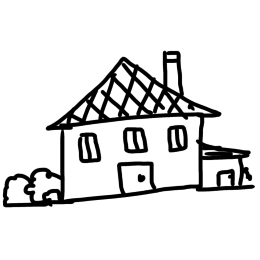chimney: (155, 34, 187, 94)
closed_window: (73, 127, 107, 172), (110, 125, 155, 154), (160, 121, 187, 158)
door: (112, 160, 162, 201), (215, 164, 239, 195)
roof: (41, 52, 223, 125), (193, 138, 259, 158)
wall: (54, 108, 210, 207), (199, 154, 248, 201)
